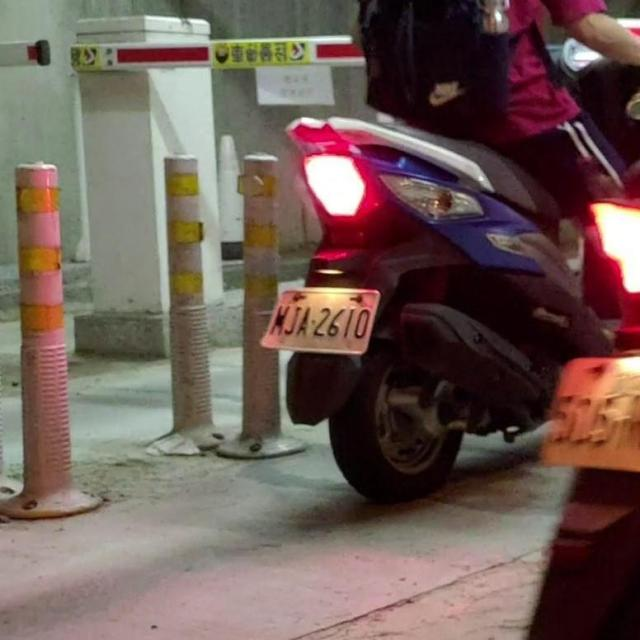W: (537, 352, 640, 475), (260, 280, 382, 356)
